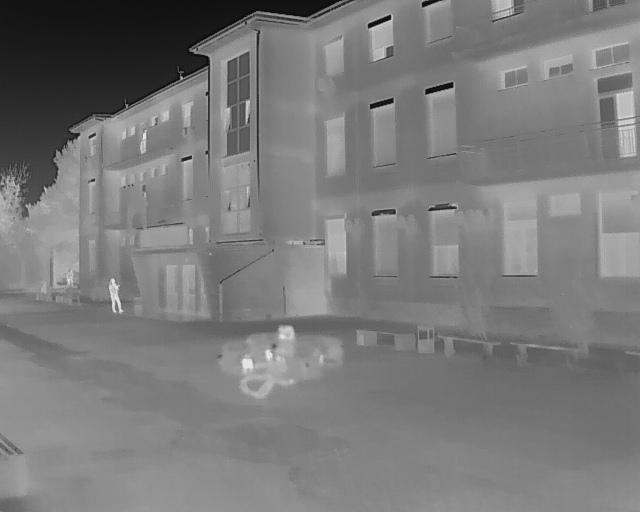drone: (215, 321, 353, 404)
